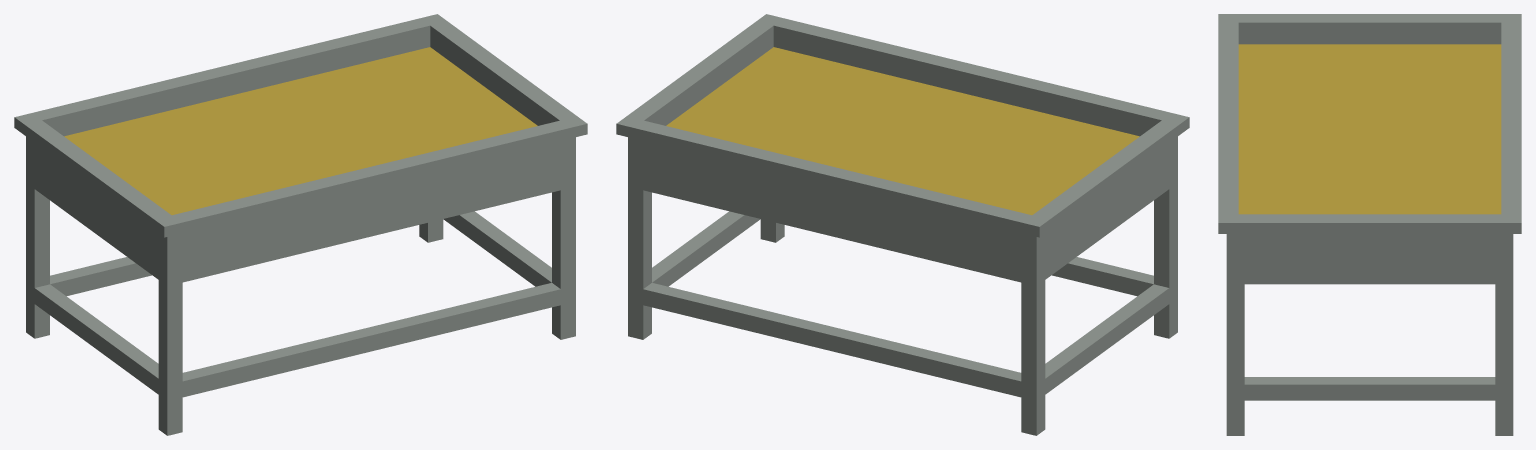
File: DonutFryer01.fbx
3 views of the same model, side by side, from view 1: azimuth 30°, elevation 25°; view 2: azimuth 150°, elevation 25°; view 3: azimuth 270°, elevation 25° (orthographic).
Visible parts, largest first — view 1: DonutFryer01; view 2: DonutFryer01; view 3: DonutFryer01.
Part boxes in pixels (x1,y1,x2,y2): DonutFryer01: (14,14,587,435); DonutFryer01: (616,14,1189,435); DonutFryer01: (1218,14,1521,435).
Bounding box in the file's own units: 2.07 × 1 × 1.27.
